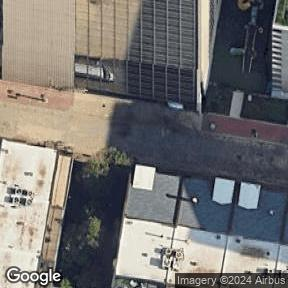vegetation: (57, 202, 107, 275), (74, 141, 133, 191)
